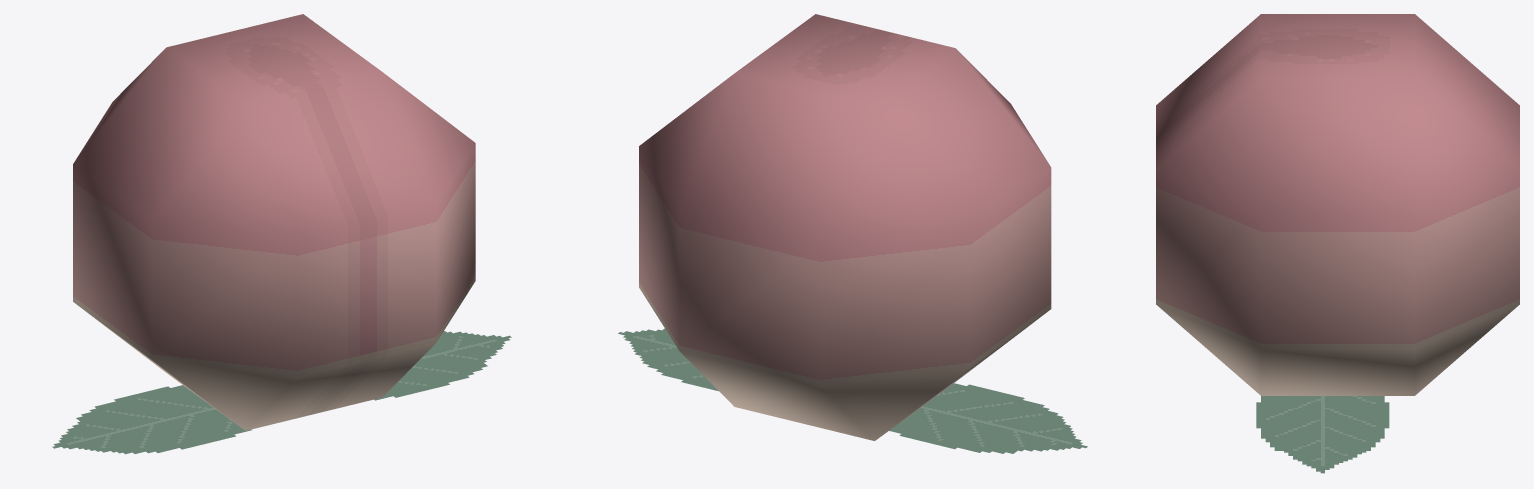
Rendered from 027e_Giant_Peach.glb.
3 renders of one model, left to right at view 1: azimuth 30°, elevation 25°; view 2: azimuth 150°, elevation 25°; view 3: azimuth 270°, elevation 25°, orthographic. The views are drawn at different scales.
Visible parts, largest first — view 1: part_0; view 2: part_0; view 3: part_0.
Boxes of the visible parts, box(x1,y1,x2,y2) form: part_0: box(52, 14, 511, 454); part_0: box(618, 14, 1087, 453); part_0: box(1156, 14, 1519, 473).
Size of the model in its own units: 0.545 by 0.3669 by 0.38.
1 material, 1 textured.
